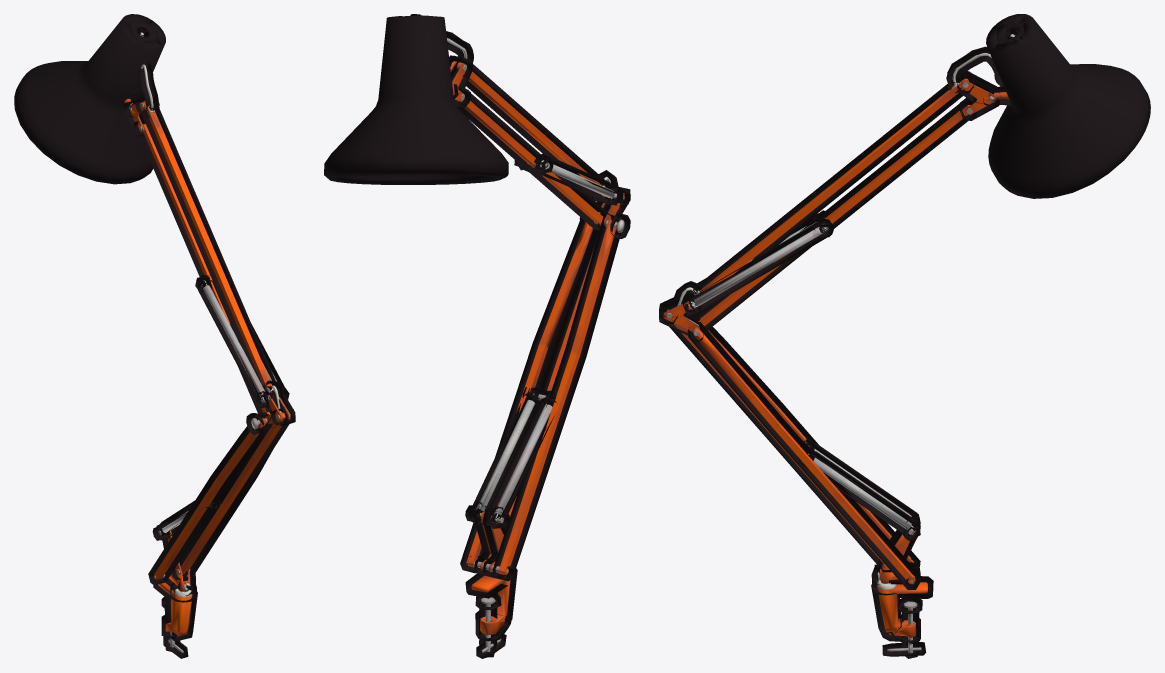
Rendered from SM_Int_DeskLamp.fbx.
The picture shows the model from 3 angles, left to right: view 1: azimuth 30°, elevation 25°; view 2: azimuth 150°, elevation 25°; view 3: azimuth 270°, elevation 25°; orthographic projection. The views are drawn at different scales.
Parts seen in each view (by area): view 1: SM_Int_DeskLamp; view 2: SM_Int_DeskLamp; view 3: SM_Int_DeskLamp.
Part boxes in pixels (bbox=[...]): SM_Int_DeskLamp: bbox=[14, 14, 295, 658]; SM_Int_DeskLamp: bbox=[324, 14, 630, 658]; SM_Int_DeskLamp: bbox=[659, 14, 1150, 658].
Size of the model in its own units: 0.1221 by 0.5071 by 0.3514.
